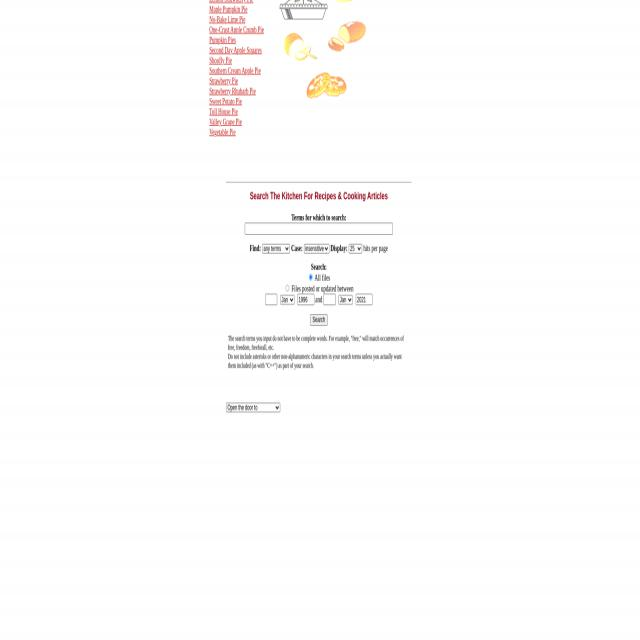button: (277, 0, 369, 102), (310, 314, 328, 325)
field: (245, 223, 393, 234), (226, 403, 280, 413), (262, 244, 290, 254), (304, 244, 329, 254), (298, 294, 314, 305), (356, 294, 372, 305), (348, 244, 362, 254), (280, 294, 294, 304), (339, 294, 353, 304), (265, 294, 277, 305), (324, 294, 336, 305), (308, 274, 314, 281), (286, 283, 290, 291)
